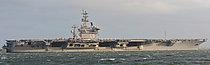MIL_Ship: (2, 9, 207, 50)
